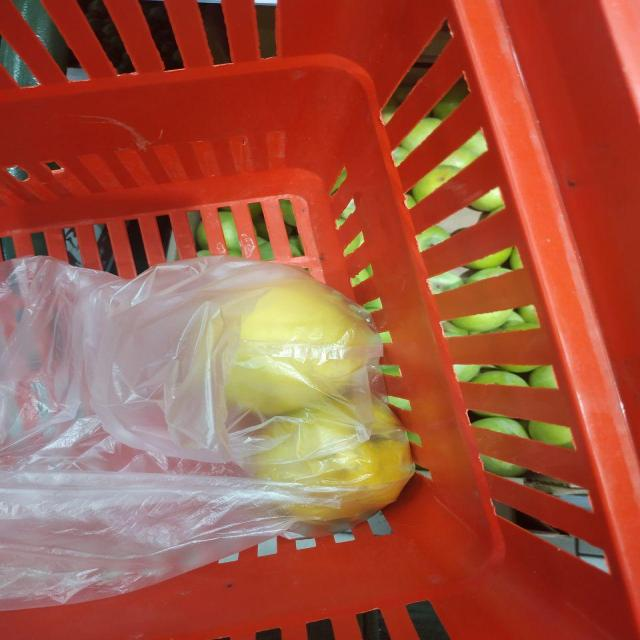Apple: (243, 398, 413, 535), (227, 278, 377, 416)
